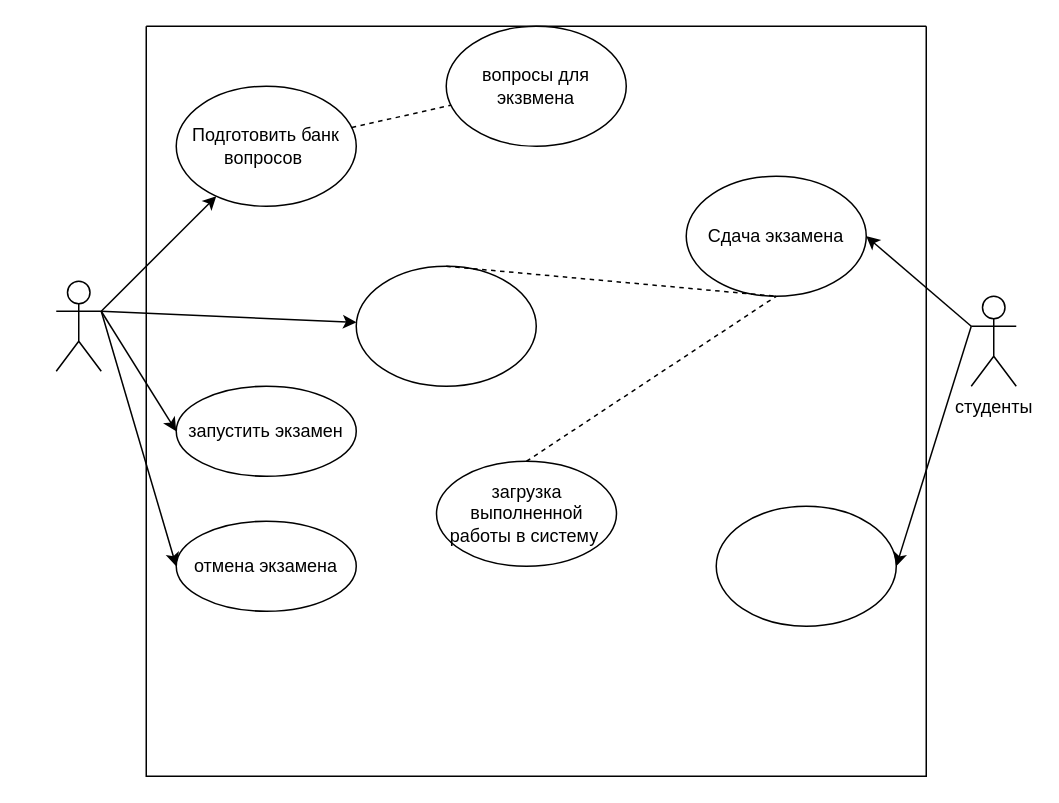
Image size: 1059x803. Some labels were removed from this diagram. Each missing label, with the centre of its shape:
разрешение на старт работы: (445,325)
результаты экзаменов: (805,565)
экзаменатор: (78,325)
